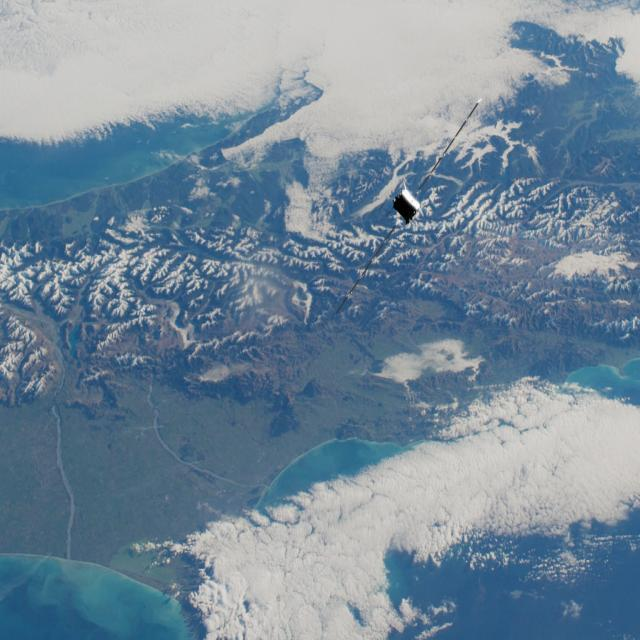satellite: (369, 90, 489, 248)
